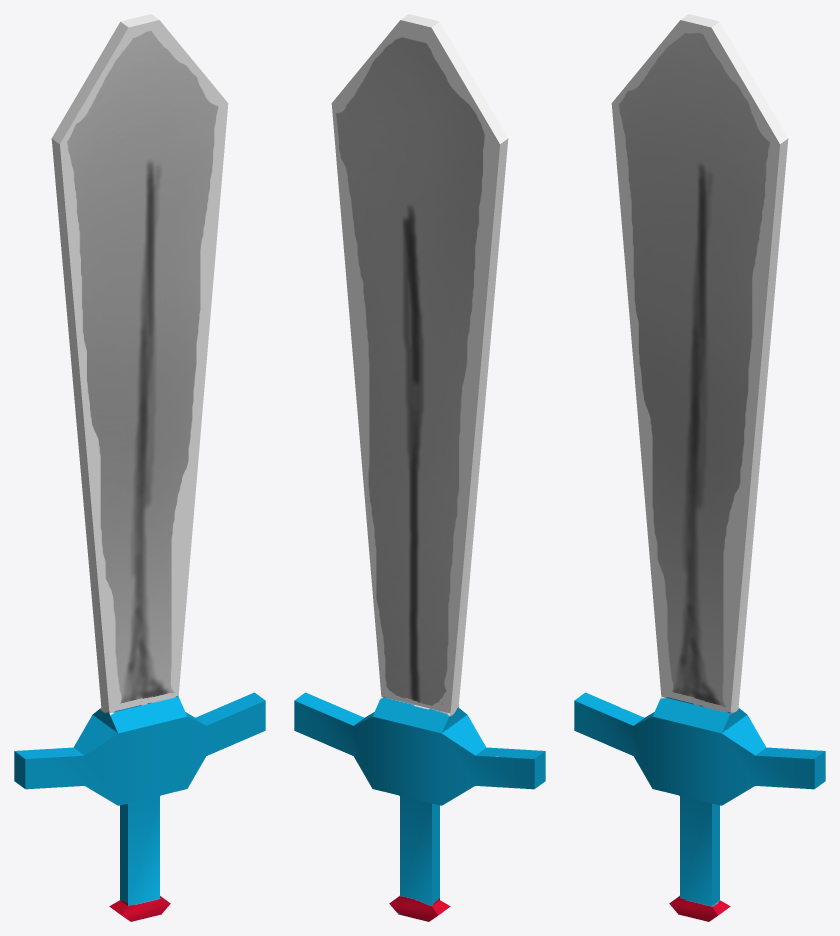
File: greatsword.fbx
3 views of the same model, side by side, from view 1: azimuth 30°, elevation 25°; view 2: azimuth 150°, elevation 25°; view 3: azimuth 330°, elevation 25° (orthographic).
Parts seen in each view (by area): view 1: Cube; view 2: Cube; view 3: Cube.
Part boxes in pixels (x1,y1,x2,y2): Cube: [14, 14, 265, 921]; Cube: [294, 14, 545, 921]; Cube: [574, 14, 825, 921].
Bounding box in the file's own units: 36.09 × 128 × 6.69.
1 material, 1 textured.
